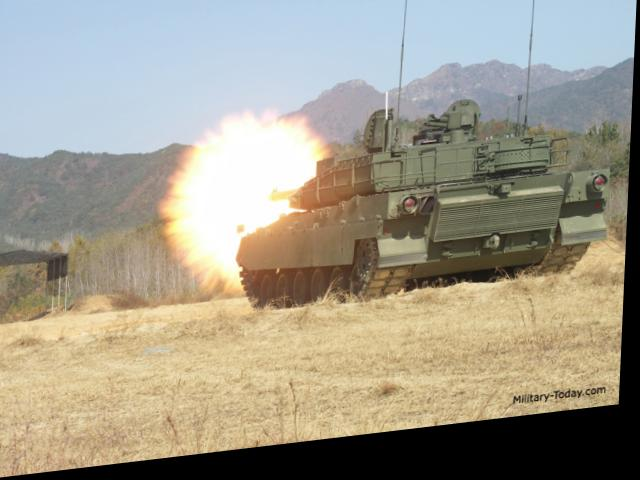tank: (256, 100, 606, 324)
